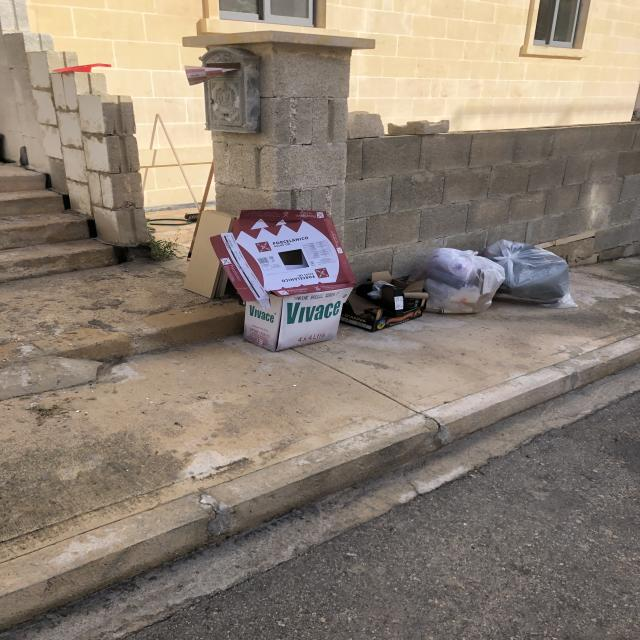Organic Waste -White Bag-: (491, 242, 581, 315), (423, 246, 502, 315)
Other: (231, 214, 350, 354), (341, 275, 429, 330)
